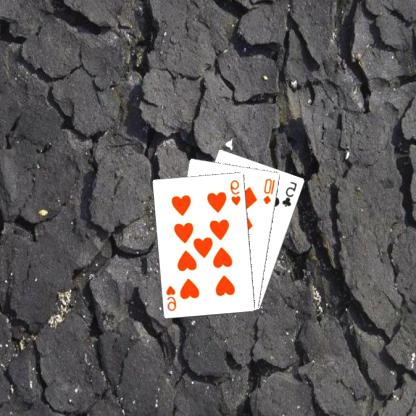10D: (262, 176, 278, 206)
5C: (281, 178, 300, 208)
9H: (230, 176, 244, 206), (166, 282, 180, 312)
